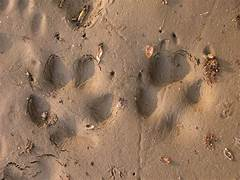lynx: (19, 64, 81, 122), (157, 55, 222, 109)
